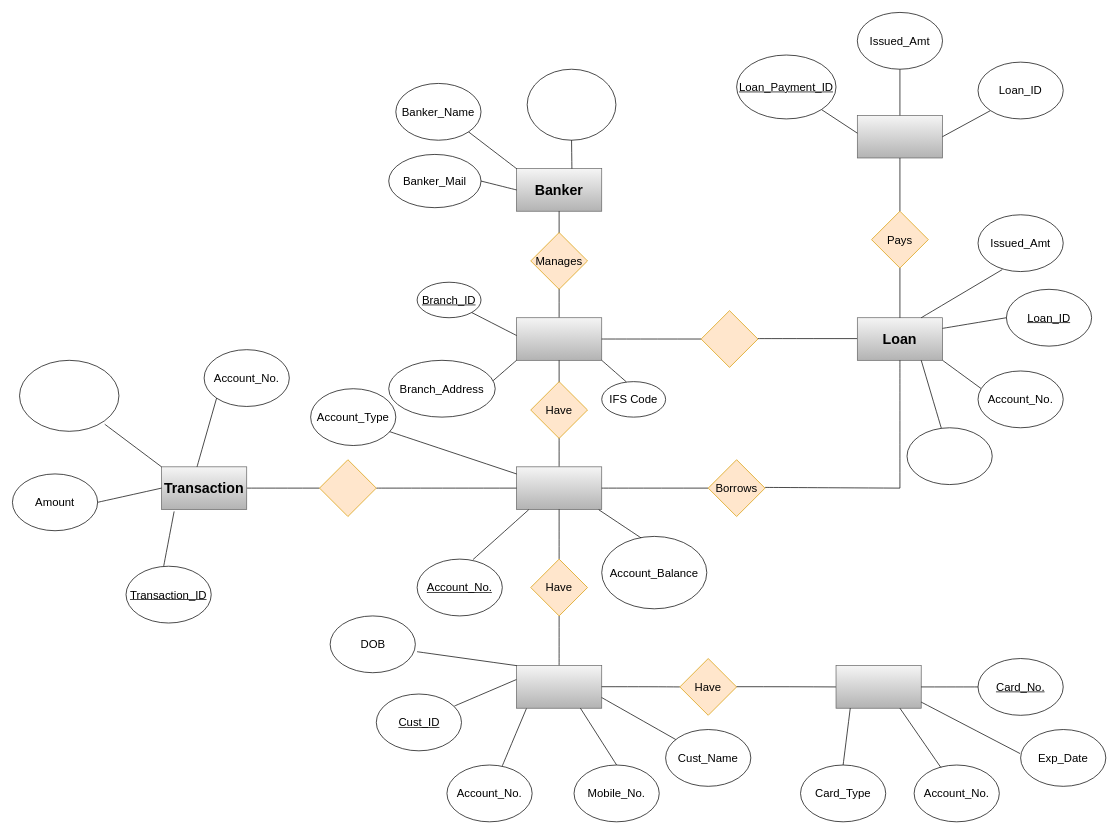
The diagram is 1118 pixels wide and 834 high, and some of its shapes have lost their labels. Here are the shapes that lost their labels. From the top down, the centre of each, then its label:
At pixel 571 104: "Banker_ID".
At pixel 900 136: "Loan Payment".
At pixel 559 338: "Branch".
At pixel 729 338: "Provides".
At pixel 69 395: "Transaction_Type".
At pixel 949 456: "Interest_Rate".
At pixel 347 488: "Does".
At pixel 559 487: "Account".
At pixel 559 686: "Customer".
At pixel 878 686: "Card".
